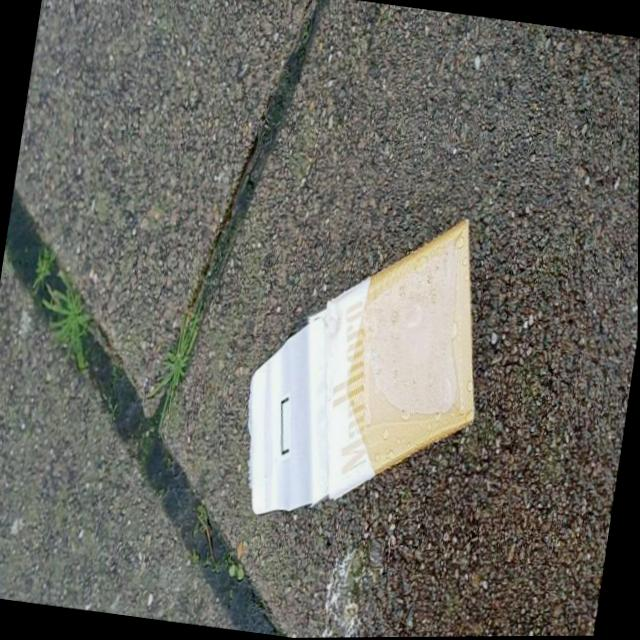Paper: (229, 186, 507, 549)
